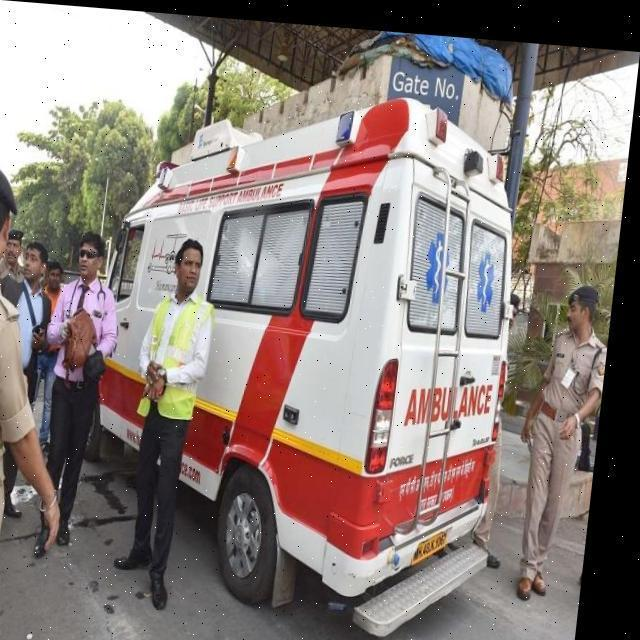Ambulance: (78, 70, 550, 638), (0, 363, 607, 640), (119, 231, 232, 609), (512, 269, 618, 596)
